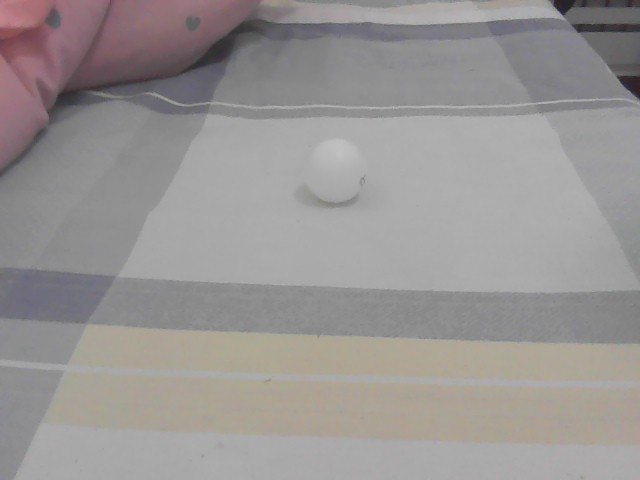ball: (301, 135, 364, 200)
